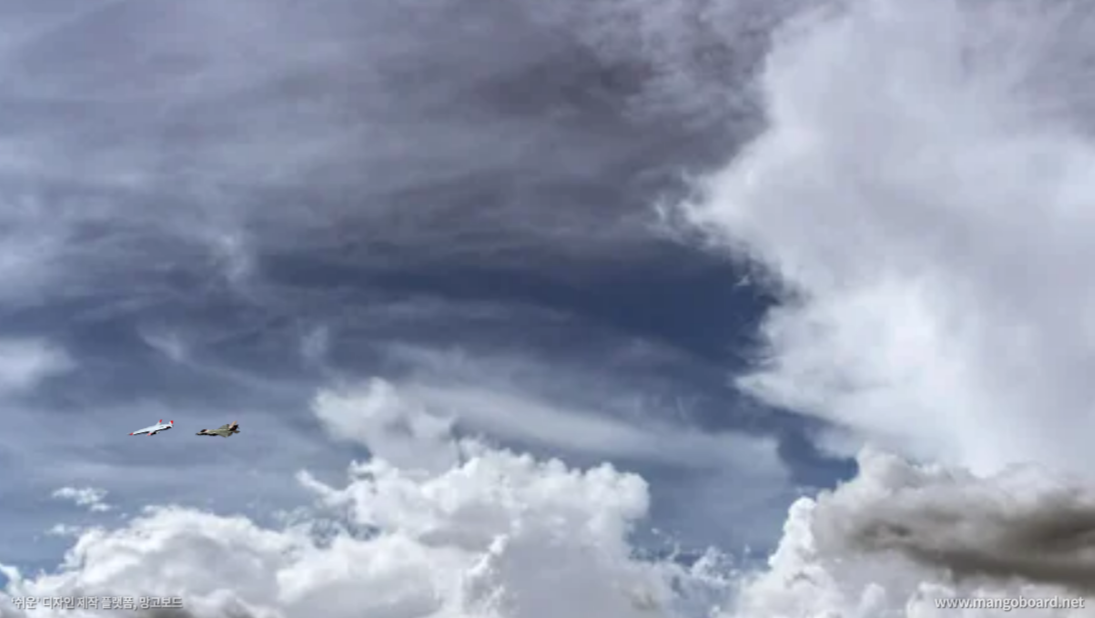airplane: (194, 420, 240, 438)
military drone: (126, 418, 174, 437)
